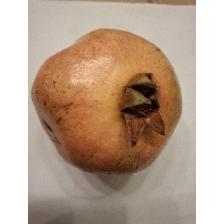Granatapfel: (30, 26, 184, 178)
